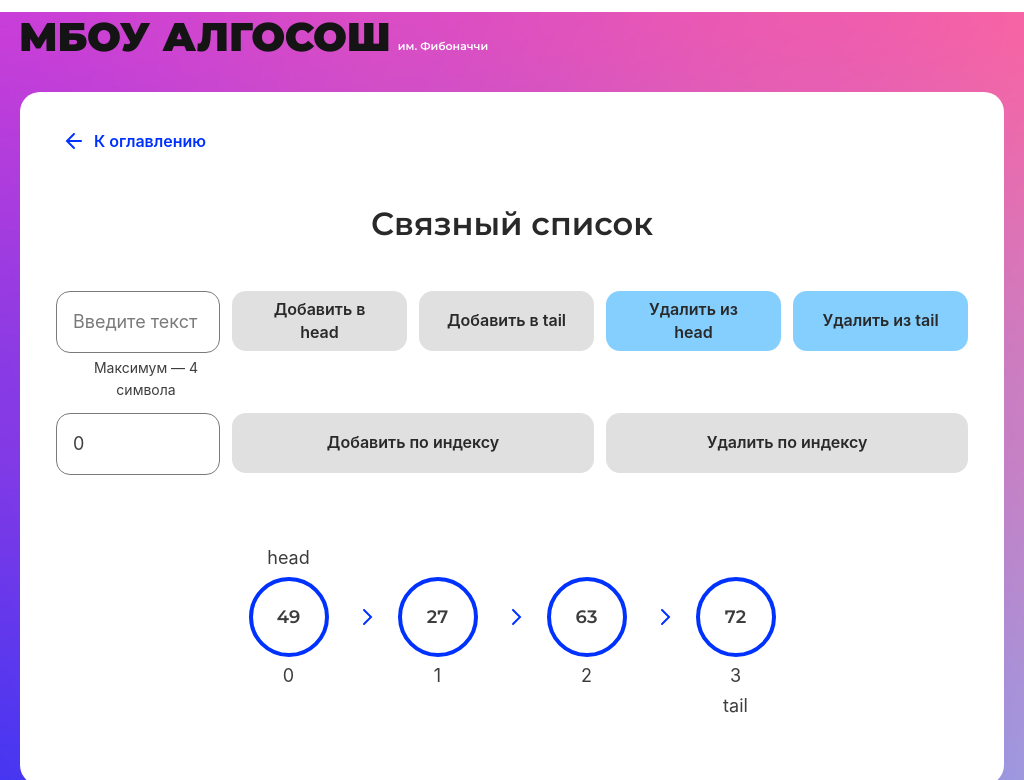
Scenario: should work submit button and algorithm on the queue-page › should be disabled buttons, when removed text and index
This screenshot has width=1024, height=780.
Expected: the submit button is disabled, [232, 291, 407, 351]
Expected: the button with test id "remove" showing "Удалить по индексу" is disabled, [606, 413, 968, 473]
In the field with placeholder "Введите текст": coordinates (138, 322) [56, 291, 220, 353], type "text"
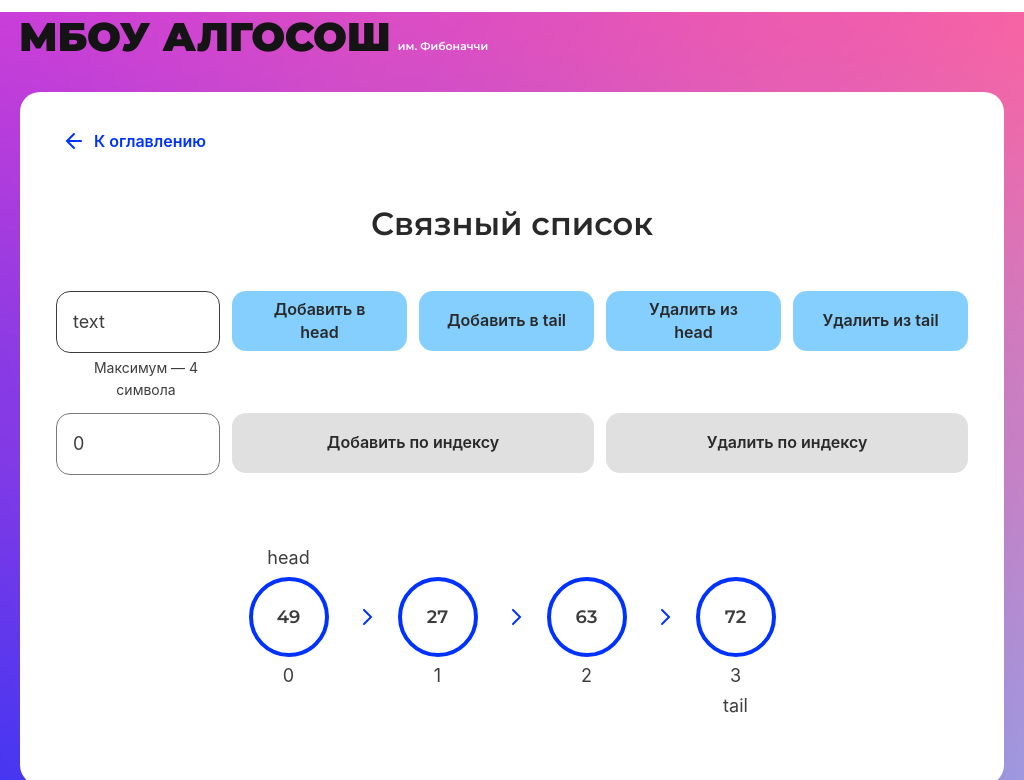
In the number field: coordinates (138, 444) [56, 413, 220, 475], type "2"
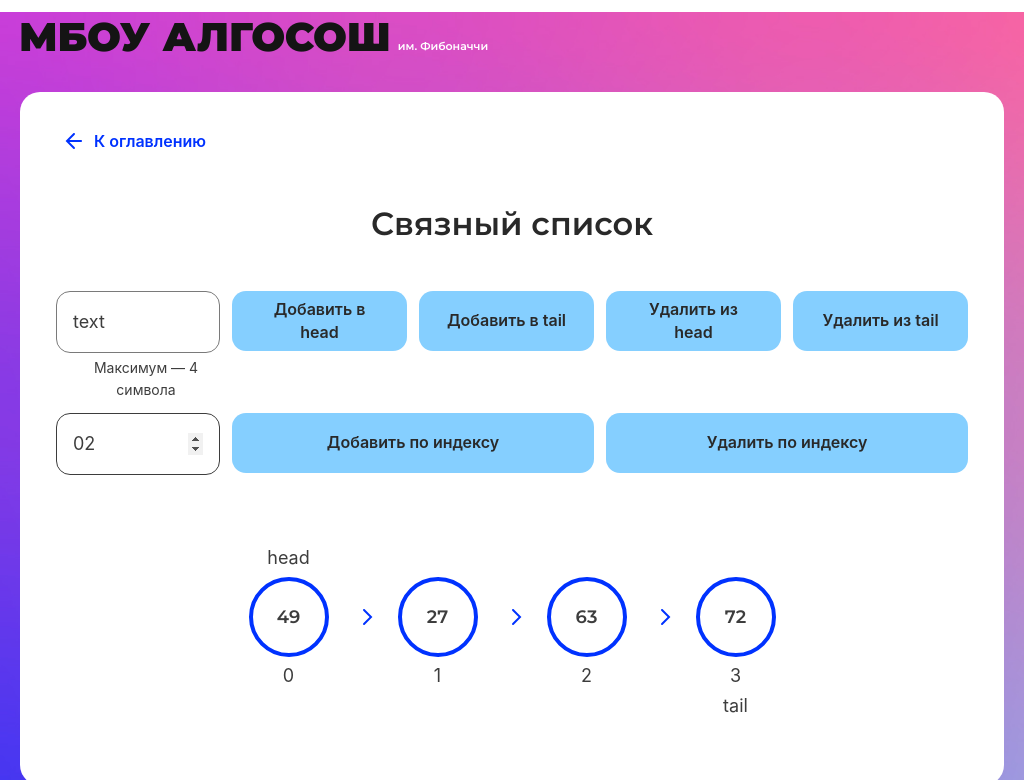
Expected: the submit button is enabled
Clear the field: coordinates (138, 322) [56, 291, 220, 353]
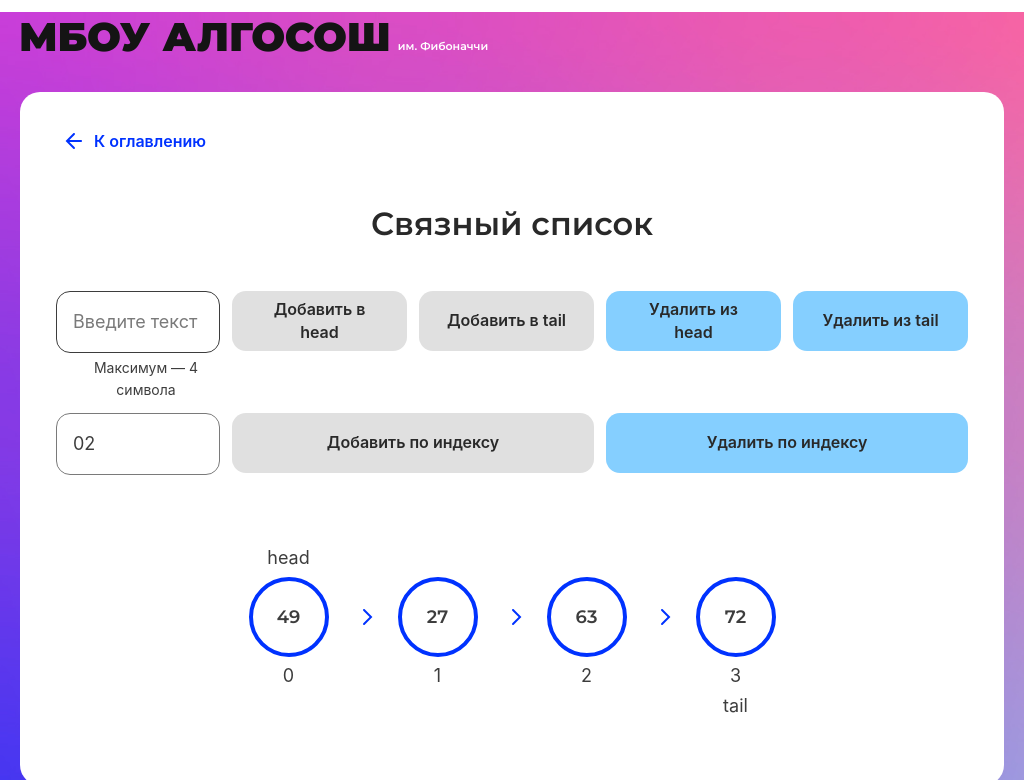
Clear the number field: coordinates (138, 444) [56, 413, 220, 475]
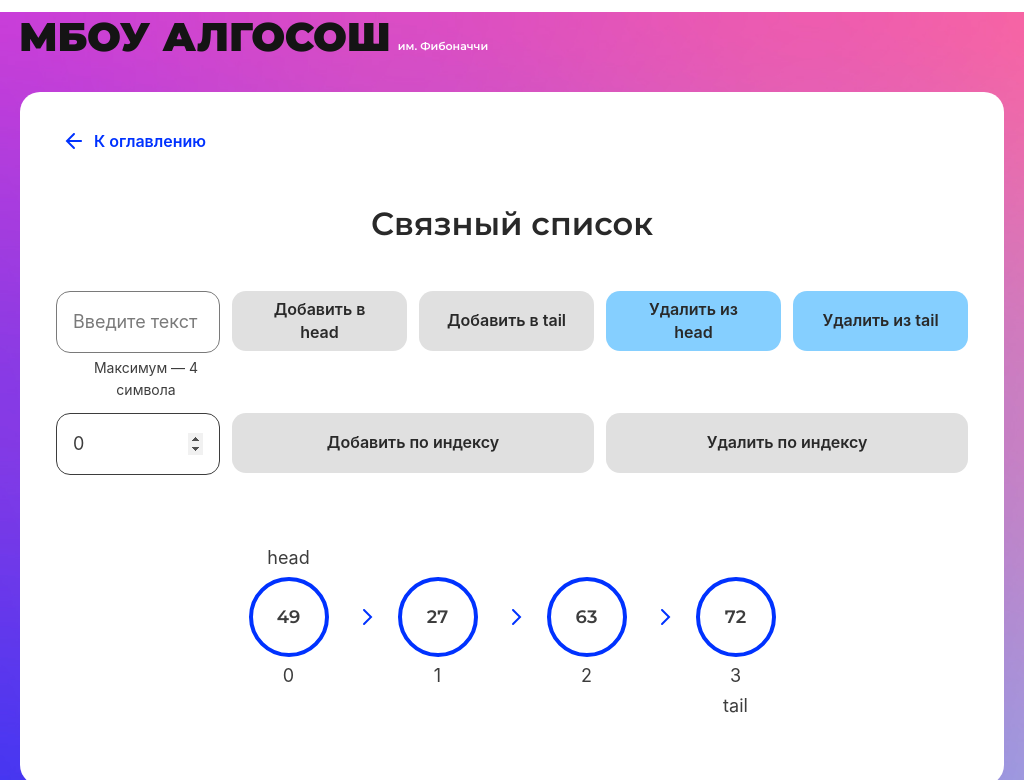
Result: the submit button is disabled at [232, 291, 407, 351]
Result: the button with test id "remove" showing "Удалить по индексу" is disabled at [606, 413, 968, 473]
